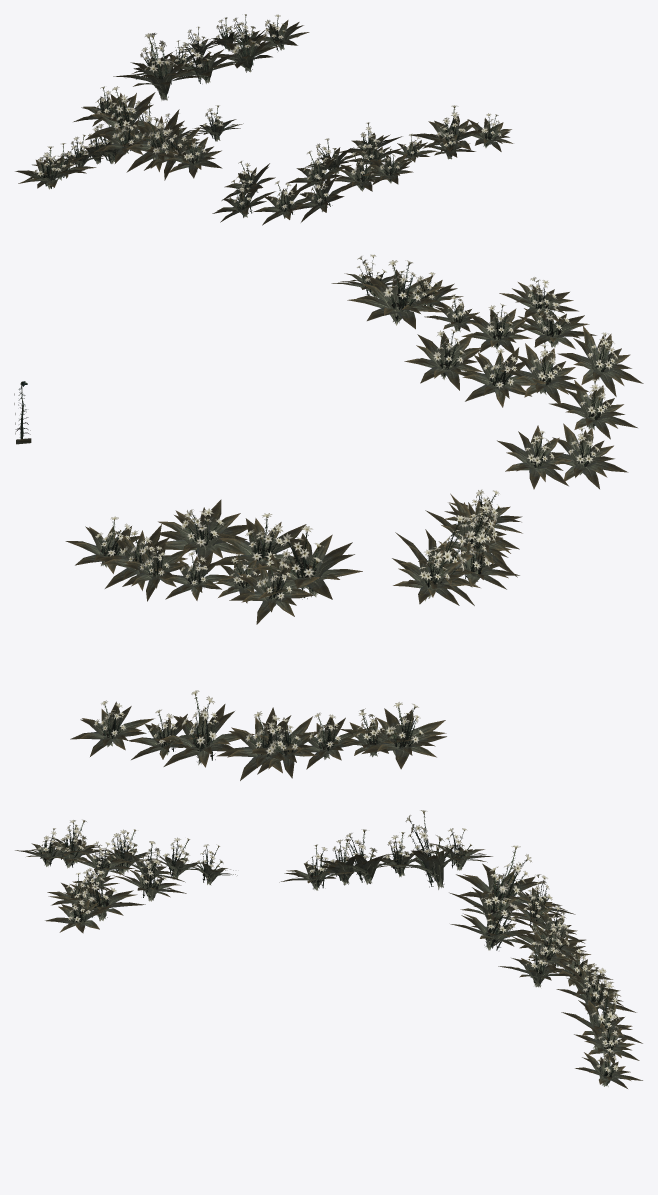
File: grass22.fbx
The picture shows the model from 3 angles, top to bottom: view 1: azimuth 30°, elevation 25°; view 2: azimuth 150°, elevation 25°; view 3: azimuth 270°, elevation 25°; orthographic projection. The views are drawn at different scales.
Parts seen in each view (by area): view 1: m121210_0; view 2: m121210_0; view 3: m121210_0.
Boxes of the visible parts, x1=… form: m121210_0: x1=15, y1=14, x2=513, y2=225; m121210_0: x1=14, y1=254, x2=643, y2=780; m121210_0: x1=15, y1=810, x2=642, y2=1088.
Size of the model in its own units: 87066 by 35068 by 89723.
1 material, 1 textured.
